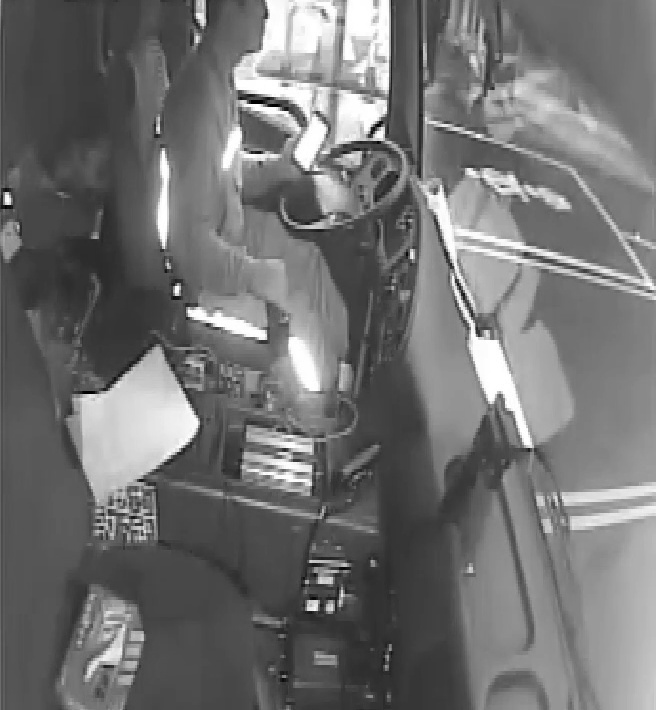cellphone: (289, 108, 331, 171)
